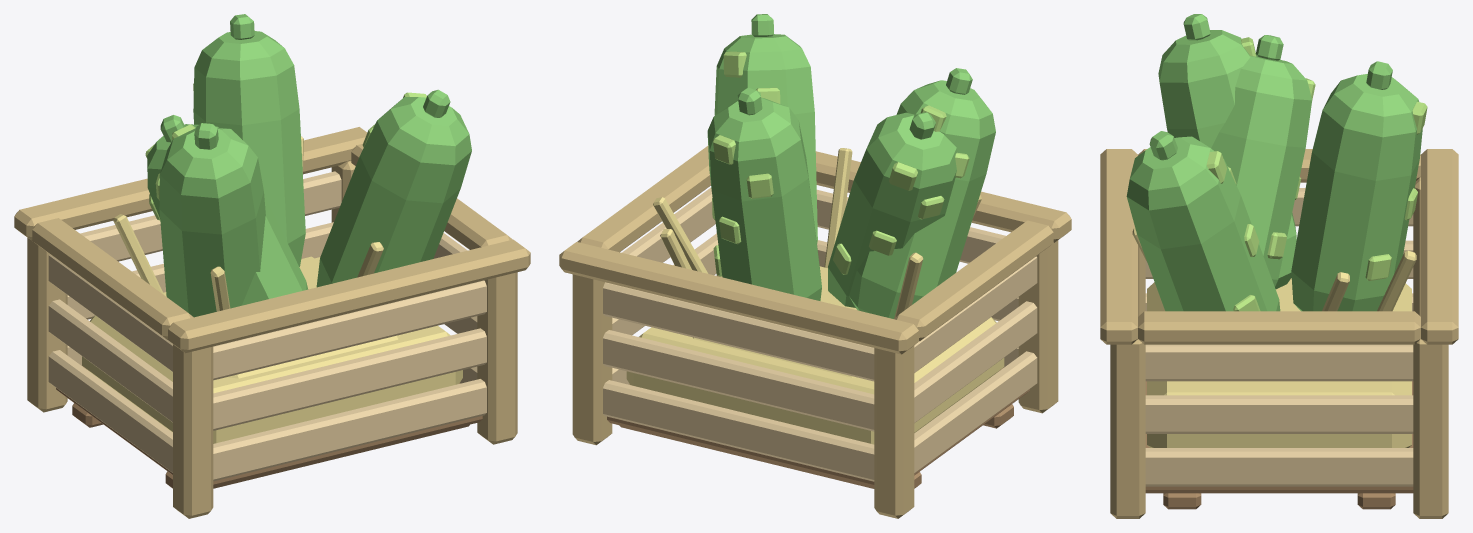
The model's file is FarmCrateCucumber.fbx.
3 renders of one model, left to right at view 1: azimuth 30°, elevation 25°; view 2: azimuth 150°, elevation 25°; view 3: azimuth 270°, elevation 25°, orthographic. The views are drawn at different scales.
Visible parts, largest first — view 1: FarmCrateCucumber.Cukes, FarmCrateCucumber.Slats, FarmCrateCucumber.Frame, FarmCrateCucumber.Straw, FarmCrateCucumber.Floor, FarmCrateCucumber.CukeStuds; view 2: FarmCrateCucumber.Slats, FarmCrateCucumber.Cukes, FarmCrateCucumber.Frame, FarmCrateCucumber.Straw, FarmCrateCucumber.CukeStuds, FarmCrateCucumber.Floor; view 3: FarmCrateCucumber.Cukes, FarmCrateCucumber.Frame, FarmCrateCucumber.Slats, FarmCrateCucumber.Straw, FarmCrateCucumber.Floor, FarmCrateCucumber.CukeStuds.
Boxes of the visible parts, x1,y1,x2,y2 form: FarmCrateCucumber.Cukes: [147, 14, 471, 317]; FarmCrateCucumber.Slats: [48, 171, 486, 481]; FarmCrateCucumber.Frame: [14, 127, 530, 518]; FarmCrateCucumber.Straw: [82, 136, 462, 443]; FarmCrateCucumber.Floor: [56, 366, 482, 488]; FarmCrateCucumber.CukeStuds: [145, 83, 426, 220]; FarmCrateCucumber.Slats: [603, 187, 1037, 481]; FarmCrateCucumber.Cukes: [707, 14, 995, 318]; FarmCrateCucumber.Frame: [559, 145, 1071, 518]; FarmCrateCucumber.Straw: [626, 148, 1004, 444]; FarmCrateCucumber.CukeStuds: [712, 51, 969, 276]; FarmCrateCucumber.Floor: [607, 368, 1029, 488]; FarmCrateCucumber.Cukes: [1126, 14, 1422, 311]; FarmCrateCucumber.Frame: [1100, 149, 1458, 518]; FarmCrateCucumber.Slats: [1145, 188, 1413, 486]; FarmCrateCucumber.Straw: [1132, 228, 1416, 447]; FarmCrateCucumber.Floor: [1145, 381, 1413, 509]; FarmCrateCucumber.CukeStuds: [1206, 37, 1427, 311].
Size of the model in its own units: 3.34 by 3.34 by 2.84.
